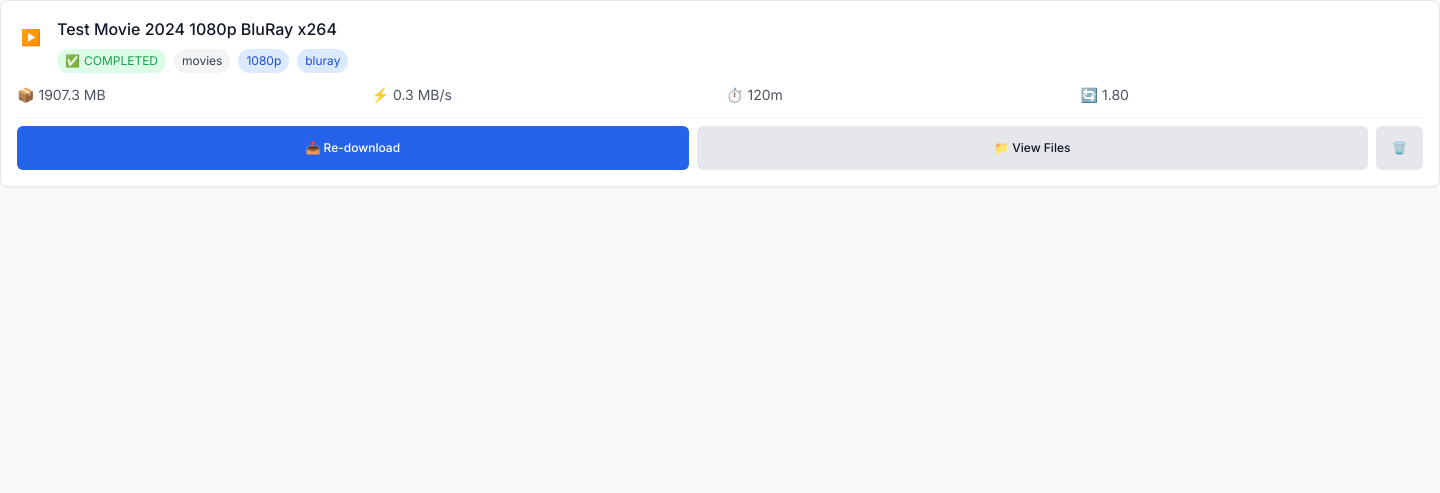
Scenario: FileHistoryCard › Expandable Details › should toggle between expanded and collapsed
Step 1. Click the button "▶️" → (31, 37), box x1=17 y1=21 x2=45 y2=53
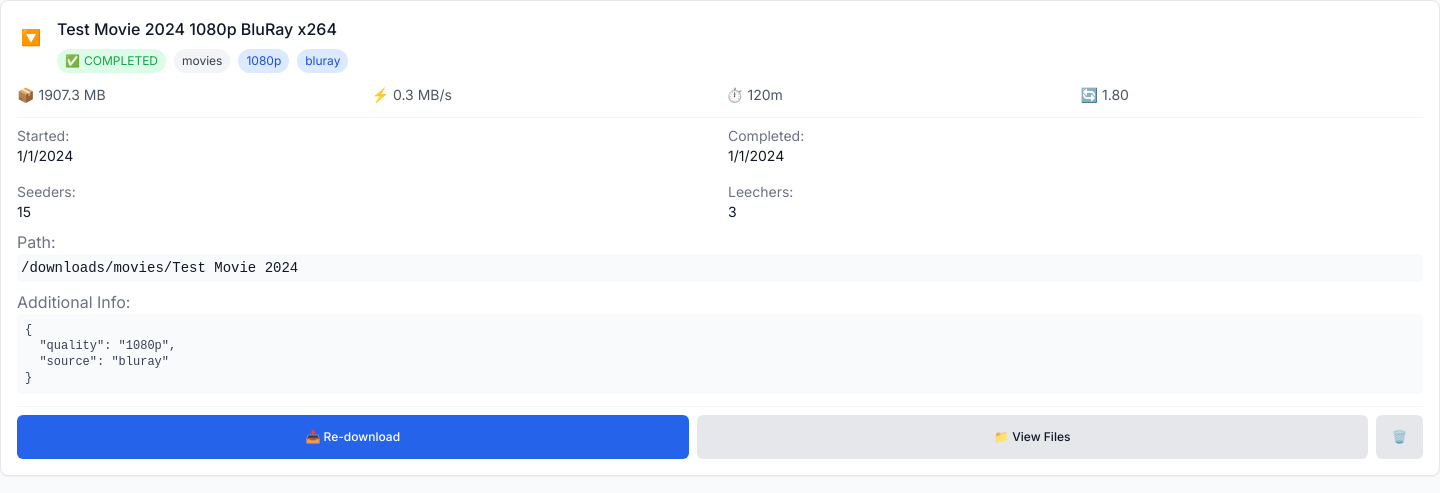
Now the button "🔽" is shown
Now the text "Seeders:" is shown, box x1=17 y1=183 x2=76 y2=200
Step 2. Click the button "🔽" → (31, 37), box x1=17 y1=21 x2=45 y2=53
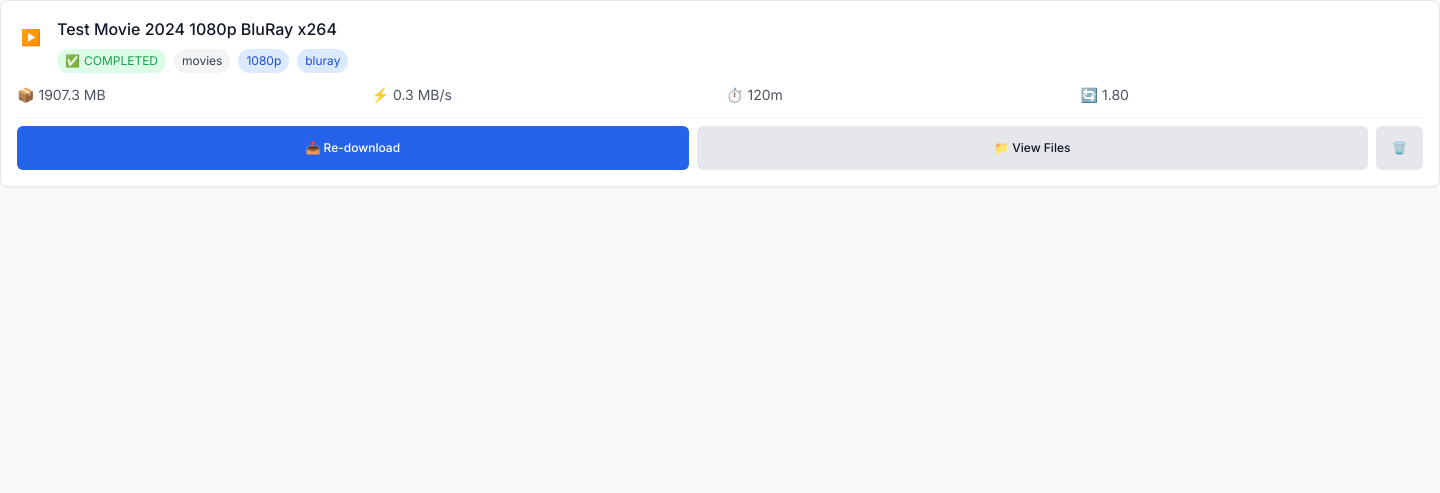
Now the button "▶️" is shown, box x1=17 y1=21 x2=45 y2=53
Now the text "Seeders:" is gone
